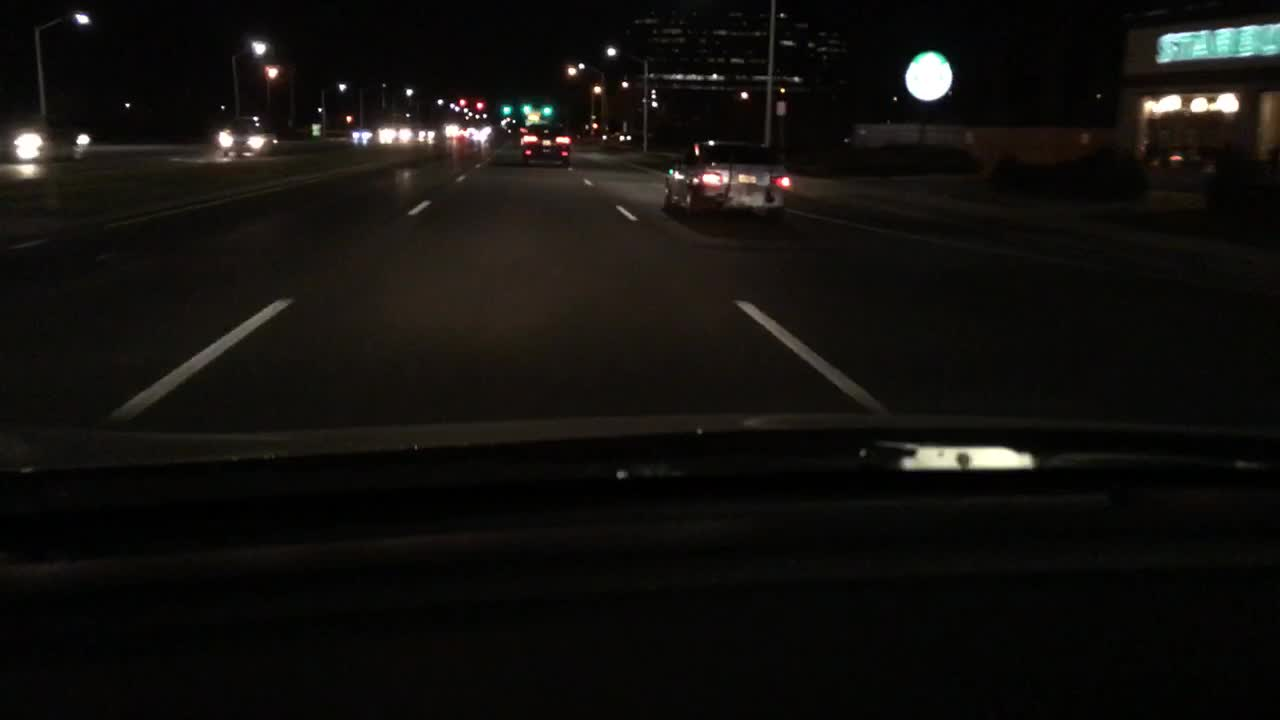car: (659, 136, 788, 222), (516, 124, 572, 165), (215, 121, 276, 156), (0, 129, 44, 160), (377, 124, 412, 145), (69, 128, 96, 155), (600, 129, 633, 148), (468, 122, 495, 140), (350, 124, 373, 145), (443, 122, 464, 140), (416, 128, 436, 145)
traffic sign: (1156, 21, 1278, 61)
